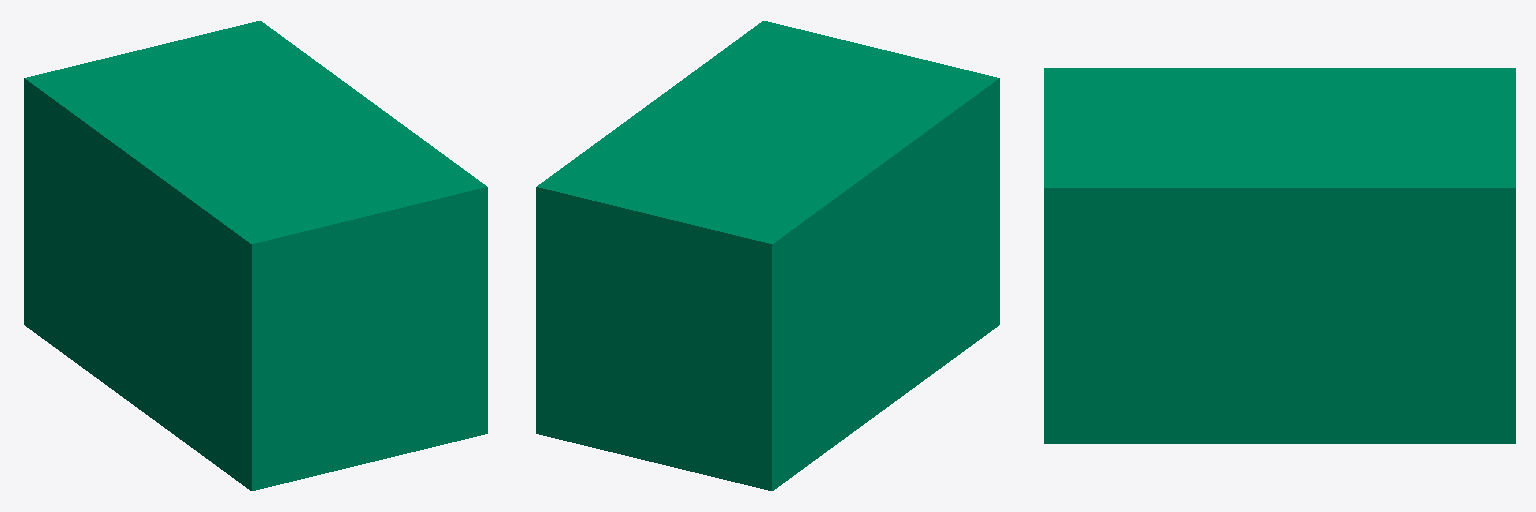
URDF robot description (ur5e):
<?xml version="1.0" encoding="utf-8"?>
<!-- =================================================================================== -->
<!-- |    This document was autogenerated by xacro from ur5e_robot.urdf.xacro          | -->
<!-- |    EDITING THIS FILE BY HAND IS NOT RECOMMENDED                                 | -->
<!-- =================================================================================== -->
<robot name="ur5e" xmlns:xacro="http://ros.org/wiki/xacro">
  <link name="base_link">
    <visual>
      <geometry>
        <mesh filename="/visual/base.dae" />
      </geometry>
      <material name="LightGrey">
        <color rgba="0.7 0.7 0.7 1.0" />
      </material>
    </visual>
    <collision>
      <geometry>
        <mesh filename="/collision/base.stl" scale="1.0 1.0 1.0" />
      </geometry>
    </collision>
    <inertial>
      <mass value="4.0" />
      <origin rpy="0 0 0" xyz="0.0 0.0 0.0" />
      <inertia ixx="0.00443333156" ixy="0.0" ixz="0.0" iyy="0.00443333156" iyz="0.0" izz="0.0072" />
    </inertial>
  </link>
  <joint name="shoulder_pan_joint" type="revolute">
    <parent link="base_link" />
    <child link="shoulder_link" />
    <origin rpy="0.0 0.0 0.0" xyz="0.0 0.0 0.163" />
    <axis xyz="0 0 1" />
    <limit effort="150.0" lower="-6.28318530718" upper="6.28318530718" velocity="3.14" />
    <dynamics damping="0.0" friction="0.0" />
  </joint>
  <link name="shoulder_link">
    <visual>
      <geometry>
        <mesh filename="/visual/shoulder.dae" />
      </geometry>
      <material name="LightGrey">
        <color rgba="0.7 0.7 0.7 1.0" />
      </material>
    </visual>
    <collision>
      <geometry>
        <mesh filename="/collision/shoulder.stl" scale="1.0 1.0 1.0" />
      </geometry>
    </collision>
    <inertial>
      <mass value="3.7" />
      <origin rpy="0 0 0" xyz="0.0 0.0 0.0" />
      <inertia ixx="0.010267495893" ixy="0.0" ixz="0.0" iyy="0.010267495893" iyz="0.0" izz="0.00666" />
    </inertial>
  </link>
  <joint name="shoulder_lift_joint" type="revolute">
    <parent link="shoulder_link" />
    <child link="upper_arm_link" />
    <origin rpy="0.0 1.57079632679 0.0" xyz="0.0 0.138 0.0" />
    <axis xyz="0 1 0" />
    <limit effort="150.0" lower="-6.28318530718" upper="6.28318530718" velocity="3.14" />
    <dynamics damping="0.0" friction="0.0" />
  </joint>
  <link name="upper_arm_link">
    <visual>
      <geometry>
        <mesh filename="/visual/upperarm.dae" />
      </geometry>
      <material name="LightGrey">
        <color rgba="0.7 0.7 0.7 1.0" />
      </material>
    </visual>
    <collision>
      <geometry>
        <mesh filename="/collision/upperarm.stl" scale="1.0 1.0 1.0" />
      </geometry>
    </collision>
    <inertial>
      <mass value="8.393" />
      <origin rpy="0 0 0" xyz="0.0 0.0 0.2125" />
      <inertia ixx="0.133885781862" ixy="0.0" ixz="0.0" iyy="0.133885781862" iyz="0.0"
        izz="0.0151074" />
    </inertial>
  </link>
  <joint name="elbow_joint" type="revolute">
    <parent link="upper_arm_link" />
    <child link="forearm_link" />
    <origin rpy="0.0 0.0 0.0" xyz="0.0 -0.131 0.425" />
    <axis xyz="0 1 0" />
    <limit effort="150.0" lower="-3.14159265359" upper="3.14159265359" velocity="3.14" />
    <dynamics damping="0.0" friction="0.0" />
  </joint>
  <link name="forearm_link">
    <visual>
      <geometry>
        <mesh filename="/visual/forearm.dae" />
      </geometry>
      <material name="LightGrey">
        <color rgba="0.7 0.7 0.7 1.0" />
      </material>
    </visual>
    <collision>
      <geometry>
        <mesh filename="/collision/forearm.stl" scale="1.0 1.0 1.0" />
      </geometry>
    </collision>
    <inertial>
      <mass value="2.275" />
      <origin rpy="0 0 0" xyz="0.0 0.0 0.196" />
      <inertia ixx="0.0311796208615" ixy="0.0" ixz="0.0" iyy="0.0311796208615" iyz="0.0"
        izz="0.004095" />
    </inertial>
  </link>
  <joint name="wrist_1_joint" type="revolute">
    <parent link="forearm_link" />
    <child link="wrist_1_link" />
    <origin rpy="0.0 1.57079632679 0.0" xyz="0.0 0.0 0.392" />
    <axis xyz="0 1 0" />
    <limit effort="28.0" lower="-6.28318530718" upper="6.28318530718" velocity="6.28" />
    <dynamics damping="0.0" friction="0.0" />
  </joint>
  <link name="wrist_1_link">
    <visual>
      <geometry>
        <mesh filename="/visual/wrist1.dae" />
      </geometry>
      <material name="LightGrey">
        <color rgba="0.7 0.7 0.7 1.0" />
      </material>
    </visual>
    <collision>
      <geometry>
        <mesh filename="/collision/wrist1.stl" scale="1.0 1.0 1.0" />
      </geometry>
    </collision>
    <inertial>
      <mass value="1.219" />
      <origin rpy="0 0 0" xyz="0.0 0.127 0.0" />
      <inertia ixx="0.00255989897604" ixy="0.0" ixz="0.0" iyy="0.00255989897604" iyz="0.0"
        izz="0.0021942" />
    </inertial>
  </link>
  <joint name="wrist_2_joint" type="revolute">
    <parent link="wrist_1_link" />
    <child link="wrist_2_link" />
    <origin rpy="0.0 0.0 0.0" xyz="0.0 0.127 0.0" />
    <axis xyz="0 0 1" />
    <limit effort="28.0" lower="-6.28318530718" upper="6.28318530718" velocity="6.28" />
    <dynamics damping="0.0" friction="0.0" />
  </joint>
  <link name="wrist_2_link">
    <visual>
      <geometry>
        <mesh filename="/visual/wrist2.dae" />
      </geometry>
      <material name="LightGrey">
        <color rgba="0.7 0.7 0.7 1.0" />
      </material>
    </visual>
    <collision>
      <geometry>
        <mesh filename="/collision/wrist2.stl" scale="1.0 1.0 1.0" />
      </geometry>
    </collision>
    <inertial>
      <mass value="1.219" />
      <origin rpy="0 0 0" xyz="0.0 0.0 0.1" />
      <inertia ixx="0.00255989897604" ixy="0.0" ixz="0.0" iyy="0.00255989897604" iyz="0.0"
        izz="0.0021942" />
    </inertial>
  </link>
  <joint name="wrist_3_joint" type="revolute">
    <parent link="wrist_2_link" />
    <child link="wrist_3_link" />
    <origin rpy="0.0 0.0 0.0" xyz="0.0 0.0 0.1" />
    <axis xyz="0 1 0" />
    <limit effort="28.0" lower="-6.28318530718" upper="6.28318530718" velocity="6.28" />
    <dynamics damping="0.0" friction="0.0" />
  </joint>
  <link name="wrist_3_link">
    <visual>
      <geometry>
        <mesh filename="/visual/wrist3.dae" />
      </geometry>
      <material name="LightGrey">
        <color rgba="0.7 0.7 0.7 1.0" />
      </material>
    </visual>
    <collision>
      <geometry>
        <mesh filename="/collision/wrist3.stl" scale="1.0 1.0 1.0" />
      </geometry>
    </collision>
    <inertial>
      <mass value="0.1879" />
      <origin rpy="1.57079632679 0 0" xyz="0.0 0.0771 0.0" />
      <inertia ixx="9.89041005217e-05" ixy="0.0" ixz="0.0" iyy="9.89041005217e-05" iyz="0.0"
        izz="0.0001321171875" />
    </inertial>
  </link>
  <joint name="ee_fixed_joint" type="fixed">
    <parent link="wrist_3_link" />
    <child link="ee_link" />
    <origin rpy="0.0 0.0 1.57079632679" xyz="0.0 0.1 0.0" />
  </joint>
  <link name="ee_link">
    <collision>
      <geometry>
        <box size="0.01 0.01 0.01" />
      </geometry>
      <origin rpy="0 0 0" xyz="-0.01 0 0" />
    </collision>
  </link>
  <transmission name="shoulder_pan_trans">
    <type>transmission_interface/SimpleTransmission</type>
    <joint name="shoulder_pan_joint">
      <hardwareInterface>hardware_interface/PositionJointInterface</hardwareInterface>
    </joint>
    <actuator name="shoulder_pan_motor">
      <mechanicalReduction>1</mechanicalReduction>
    </actuator>
  </transmission>
  <transmission name="shoulder_lift_trans">
    <type>transmission_interface/SimpleTransmission</type>
    <joint name="shoulder_lift_joint">
      <hardwareInterface>hardware_interface/PositionJointInterface</hardwareInterface>
    </joint>
    <actuator name="shoulder_lift_motor">
      <mechanicalReduction>1</mechanicalReduction>
    </actuator>
  </transmission>
  <transmission name="elbow_trans">
    <type>transmission_interface/SimpleTransmission</type>
    <joint name="elbow_joint">
      <hardwareInterface>hardware_interface/PositionJointInterface</hardwareInterface>
    </joint>
    <actuator name="elbow_motor">
      <mechanicalReduction>1</mechanicalReduction>
    </actuator>
  </transmission>
  <transmission name="wrist_1_trans">
    <type>transmission_interface/SimpleTransmission</type>
    <joint name="wrist_1_joint">
      <hardwareInterface>hardware_interface/PositionJointInterface</hardwareInterface>
    </joint>
    <actuator name="wrist_1_motor">
      <mechanicalReduction>1</mechanicalReduction>
    </actuator>
  </transmission>
  <transmission name="wrist_2_trans">
    <type>transmission_interface/SimpleTransmission</type>
    <joint name="wrist_2_joint">
      <hardwareInterface>hardware_interface/PositionJointInterface</hardwareInterface>
    </joint>
    <actuator name="wrist_2_motor">
      <mechanicalReduction>1</mechanicalReduction>
    </actuator>
  </transmission>
  <transmission name="wrist_3_trans">
    <type>transmission_interface/SimpleTransmission</type>
    <joint name="wrist_3_joint">
      <hardwareInterface>hardware_interface/PositionJointInterface</hardwareInterface>
    </joint>
    <actuator name="wrist_3_motor">
      <mechanicalReduction>1</mechanicalReduction>
    </actuator>
  </transmission>
  <gazebo reference="shoulder_link">
    <selfCollide>true</selfCollide>
  </gazebo>
  <gazebo reference="upper_arm_link">
    <selfCollide>true</selfCollide>
  </gazebo>
  <gazebo reference="forearm_link">
    <selfCollide>true</selfCollide>
  </gazebo>
  <gazebo reference="wrist_1_link">
    <selfCollide>true</selfCollide>
  </gazebo>
  <gazebo reference="wrist_3_link">
    <selfCollide>true</selfCollide>
  </gazebo>
  <gazebo reference="wrist_2_link">
    <selfCollide>true</selfCollide>
  </gazebo>
  <gazebo reference="ee_link">
    <selfCollide>true</selfCollide>
  </gazebo>
  <!-- ROS base_link to UR 'Base' Coordinates transform -->
  <link name="base" />
  <joint name="base_link-base_fixed_joint" type="fixed">
    <!-- NOTE: this rotation is only needed as long as base_link itself is
                 not corrected wrt the real robot (ie: rotated over 180
                 degrees)
      -->
    <origin rpy="0 0 -3.14159265359" xyz="0 0 0" />
    <parent link="base_link" />
    <child link="base" />
  </joint>
  <!-- Frame coincident with all-zeros TCP on UR controller -->
  <link name="tool0" />
  <joint name="wrist_3_link-tool0_fixed_joint" type="fixed">
    <origin rpy="-1.57079632679 0 0" xyz="0 0.1 0" />
    <parent link="wrist_3_link" />
    <child link="tool0" />
  </joint>

  <joint name="gripper_joint" type="fixed">
    <parent link="tool0" />
    <child link="gripper_link" />
    <origin xyz="0 0 0.215" rpy="0 0 0" />
  </joint>

  <link name="gripper_link">
    <collision>
      <origin xyz="0.00 0 -0.105" rpy="0 0 0" />
      <geometry>
        <box size="0.12 0.12 0.2" />
      </geometry>
    </collision>
    <visual>
      <origin xyz="0.00 0 -0.105" rpy="0 0 0" />
      <geometry>
        <box size="0.12 0.12 0.2" />
      </geometry>
    </visual>
  </link>

  <link name="world" />
  <joint name="world_joint" type="fixed">
    <parent link="world" />
    <child link="base_link" />
    <origin rpy="0.0 0.0 0" xyz="0.0 0.0 0.0" />
  </joint>
</robot>

--- Facts derived from the render (not from the file) ---
The picture shows the robot from 3 angles, left to right: view 1: azimuth 30°, elevation 25°; view 2: azimuth 150°, elevation 25°; view 3: azimuth 270°, elevation 25°; orthographic projection.
Robot: ur5e — 12 links, 11 joints (6 revolute, 5 fixed); root link world; default pose: every joint at zero.
Visible links, largest first — view 1: gripper_link; view 2: gripper_link; view 3: gripper_link.
Boxes of the visible links, x1,y1,x2,y2 form: gripper_link: [24, 21, 487, 490]; gripper_link: [536, 21, 999, 490]; gripper_link: [1044, 68, 1515, 443].
Bounding box of the posed robot: 0.12 × 0.2 × 0.12 m (x, y, z).
Geometry: only primitive shapes (box / cylinder / sphere) drawn; not drawn: 7 mesh visuals (reference in a form the renderer does not follow).